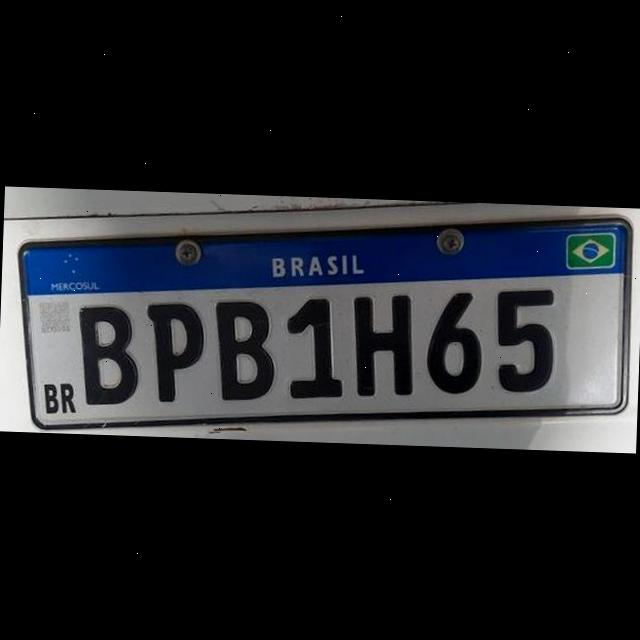Caractere: (345, 289, 417, 401), (210, 296, 280, 404), (70, 301, 139, 408), (490, 284, 557, 394), (279, 294, 347, 402), (142, 298, 208, 406), (423, 286, 488, 394)
Placa: (10, 191, 636, 453)
